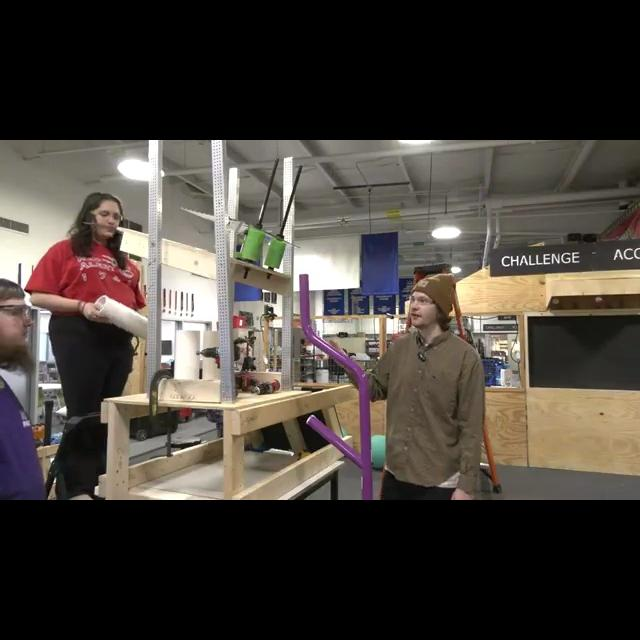CORAL: (92, 292, 148, 340), (174, 330, 200, 380), (203, 330, 220, 380)
